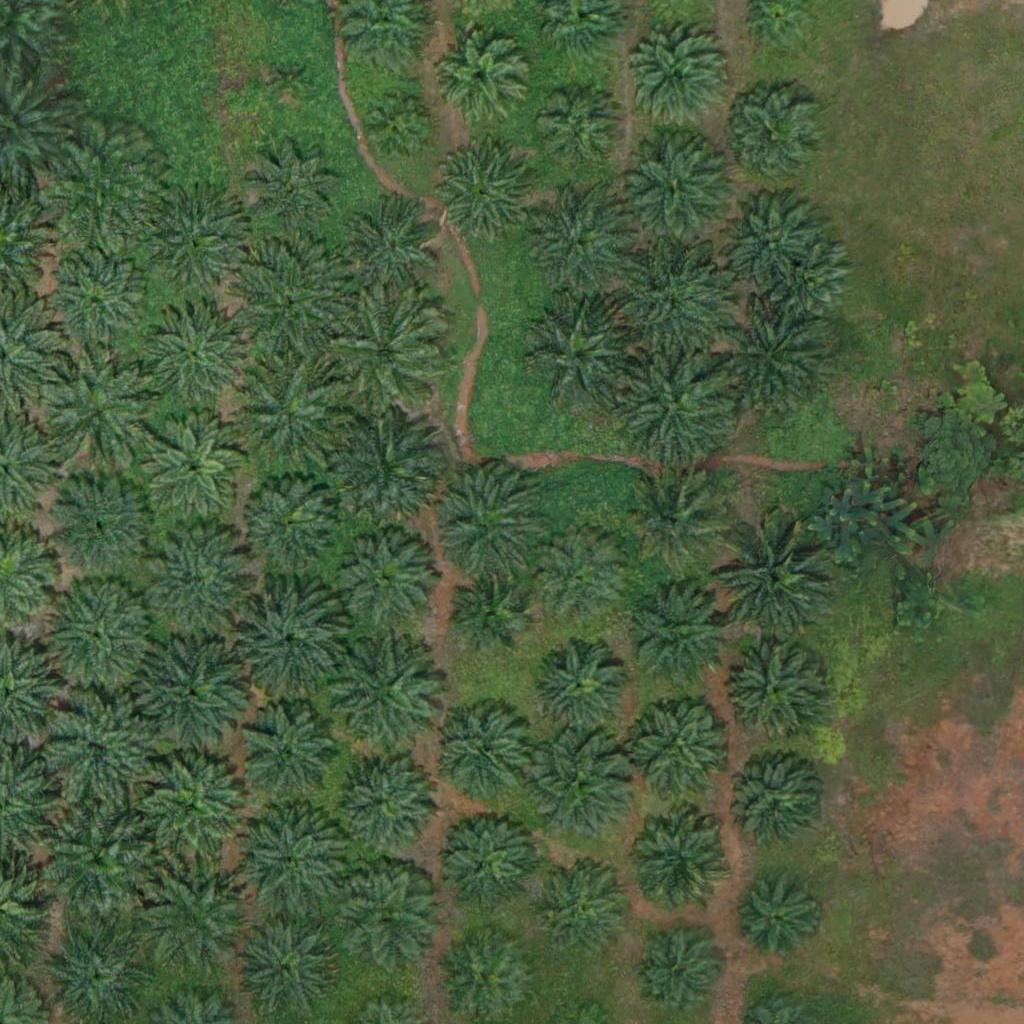Kelapa_Sawit: (45, 131, 158, 245), (326, 294, 439, 408), (430, 468, 543, 582), (622, 689, 735, 803), (520, 728, 633, 842), (622, 137, 735, 250), (40, 247, 153, 360), (44, 354, 157, 467), (41, 468, 154, 581), (144, 522, 257, 635), (136, 632, 249, 745), (615, 248, 728, 361), (717, 310, 830, 423), (237, 807, 350, 920), (138, 753, 251, 866), (135, 179, 247, 293), (139, 294, 251, 408), (234, 246, 346, 360), (231, 354, 343, 468), (331, 407, 443, 521), (328, 522, 440, 636), (720, 525, 832, 638), (236, 134, 348, 247), (40, 582, 152, 695), (41, 694, 153, 807), (232, 575, 344, 688), (330, 640, 442, 753), (524, 299, 636, 412), (620, 352, 732, 465), (625, 583, 737, 696), (140, 864, 252, 977), (43, 804, 155, 917), (630, 473, 730, 574), (629, 22, 729, 123), (530, 196, 630, 297), (430, 23, 530, 124), (432, 141, 532, 242), (143, 413, 243, 514), (238, 704, 338, 805), (338, 200, 438, 301), (724, 639, 824, 740), (537, 858, 637, 959), (435, 807, 535, 908), (335, 752, 435, 853), (336, 864, 436, 965), (236, 913, 336, 1014), (239, 470, 339, 570), (428, 703, 528, 803), (530, 526, 630, 626), (527, 638, 627, 738), (726, 753, 826, 853), (627, 813, 727, 913), (534, 86, 622, 175), (731, 877, 819, 965), (733, 92, 820, 180), (726, 199, 813, 287), (761, 239, 848, 327), (633, 929, 720, 1017), (451, 572, 526, 648), (366, 95, 429, 158), (268, 60, 305, 98)
